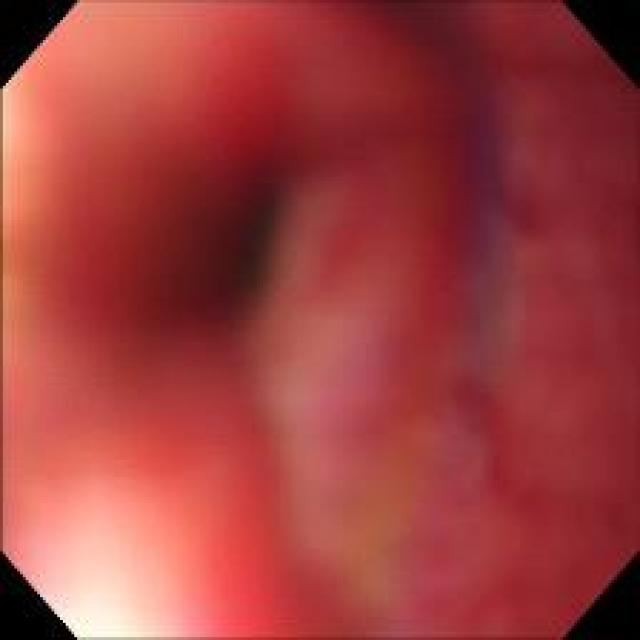blur: (18, 18, 619, 595)
contrast: (188, 186, 266, 311)
